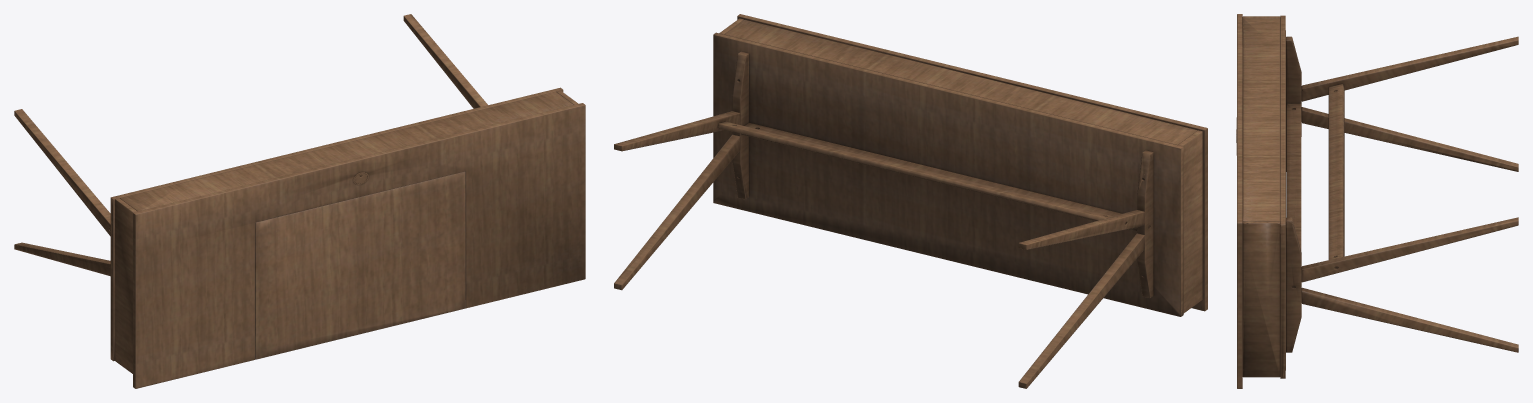
File: raw_model.glb
3 views of the same model, side by side, from view 1: azimuth 30°, elevation 25°; view 2: azimuth 150°, elevation 25°; view 3: azimuth 270°, elevation 25° (orthographic). The views are drawn at different scales.
Visible parts, largest first — view 1: solid; view 2: solid; view 3: solid.
Boxes of the visible parts, bbox=[...] form: solid: bbox=[14, 14, 585, 388]; solid: bbox=[614, 14, 1207, 388]; solid: bbox=[1236, 14, 1518, 388].
Bounding box in the file's own units: 1.35 × 0.4992 × 0.7686.
1 material, 1 textured.
